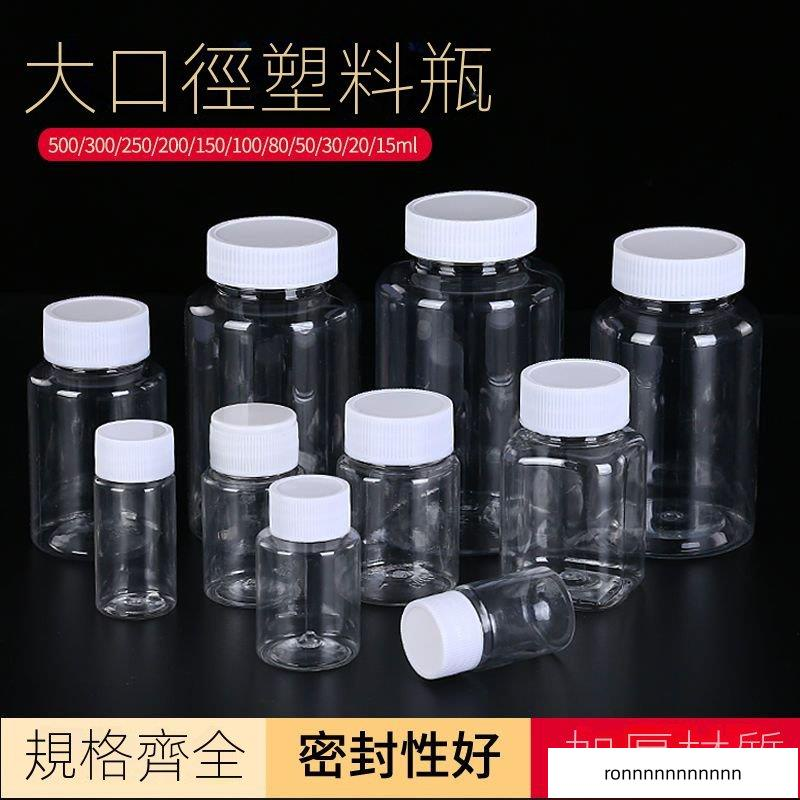medicinejar: (374, 173, 570, 575), (188, 211, 372, 541), (591, 219, 750, 560), (31, 292, 170, 573), (507, 356, 640, 625), (340, 380, 467, 601), (390, 557, 578, 682), (202, 404, 308, 617), (264, 469, 363, 677), (99, 428, 184, 635)
